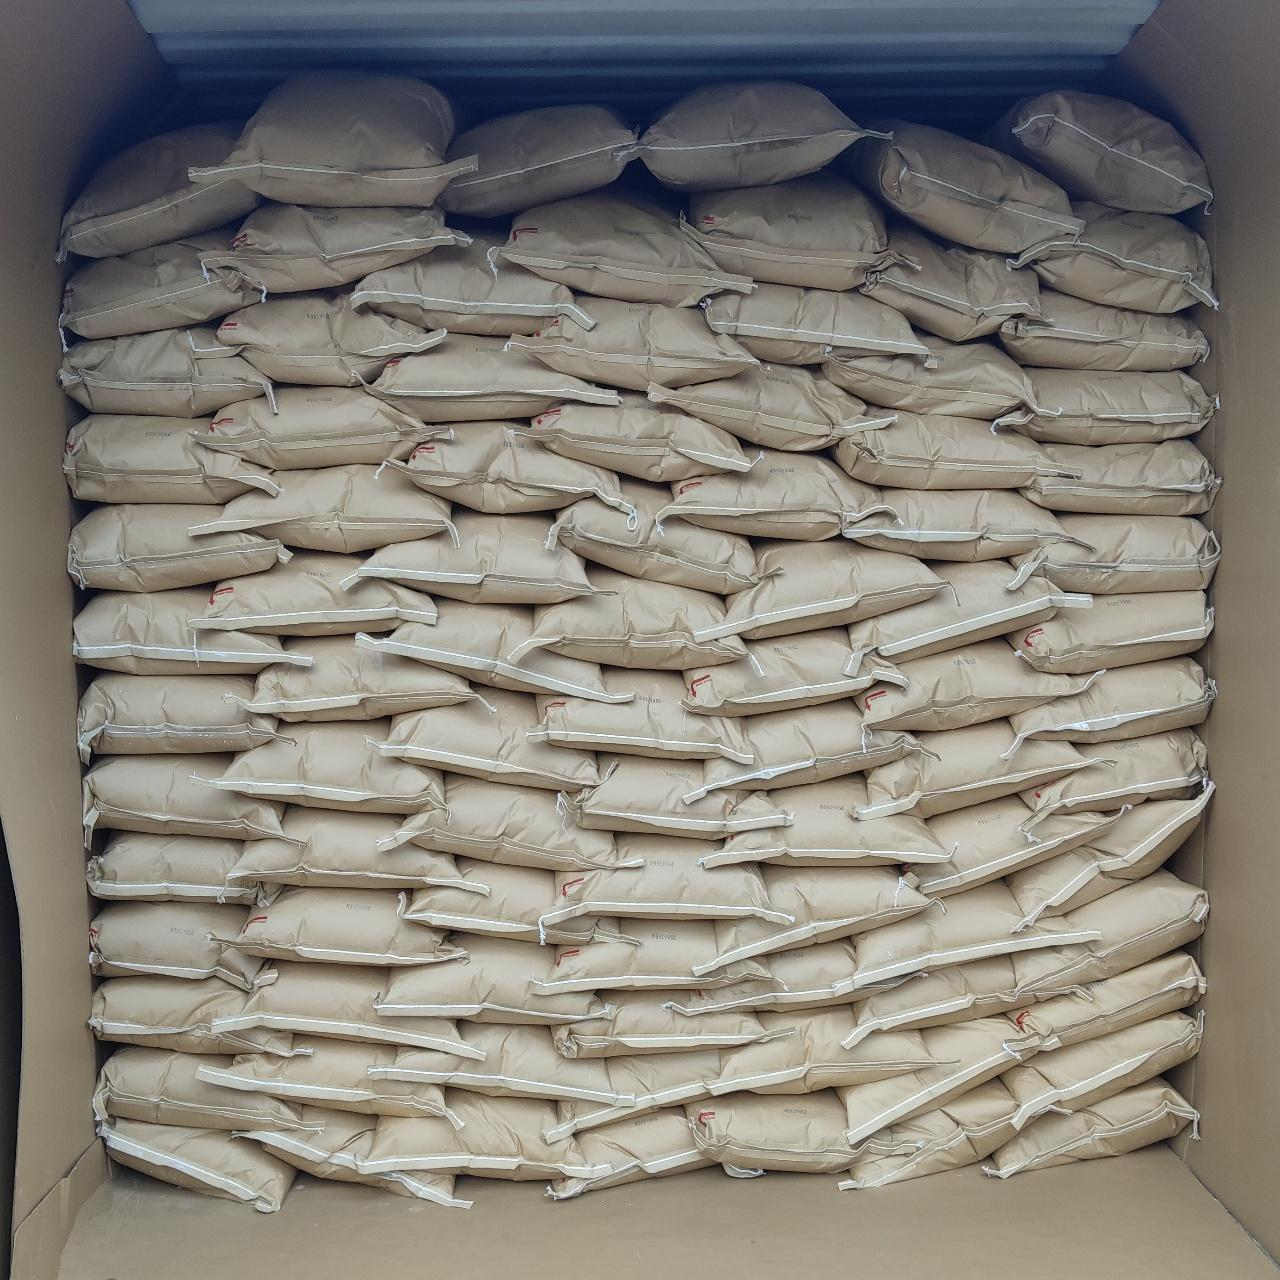sack: (198, 72, 467, 206), (836, 879, 1102, 1002), (836, 122, 1078, 254), (492, 188, 750, 302), (983, 91, 1212, 215), (840, 1014, 1056, 1142), (1008, 794, 1206, 932), (352, 600, 620, 700), (62, 122, 258, 254), (634, 82, 878, 188), (1014, 869, 1206, 1000), (697, 866, 932, 972), (224, 960, 478, 1056), (506, 294, 756, 390), (850, 561, 1088, 662), (686, 172, 894, 286), (392, 774, 638, 870), (210, 202, 470, 292), (855, 720, 1085, 821), (839, 1078, 1053, 1187), (685, 700, 926, 796), (236, 1107, 468, 1206), (549, 481, 760, 590), (200, 290, 445, 382), (380, 422, 629, 512), (348, 240, 588, 334), (188, 467, 452, 550), (1010, 202, 1214, 309), (377, 688, 598, 788), (532, 566, 742, 670), (360, 508, 590, 602), (438, 105, 638, 215), (714, 540, 937, 638), (704, 774, 944, 864), (215, 720, 445, 812), (862, 224, 1044, 340), (658, 448, 886, 540), (1002, 1012, 1200, 1118), (368, 334, 614, 420), (62, 230, 263, 334), (986, 1076, 1198, 1175), (648, 365, 892, 450), (532, 670, 754, 764), (198, 386, 450, 468), (200, 1036, 452, 1118), (906, 796, 1112, 896), (1005, 656, 1214, 754), (241, 636, 488, 719), (518, 392, 750, 478), (858, 640, 1085, 728), (74, 586, 308, 670), (377, 934, 602, 1022), (372, 1090, 590, 1180), (560, 836, 787, 922), (372, 1022, 617, 1102), (198, 552, 436, 634), (560, 754, 790, 838), (402, 858, 629, 942), (712, 1006, 930, 1094), (70, 504, 290, 590), (685, 628, 904, 714), (62, 326, 275, 414), (232, 806, 467, 886), (826, 336, 1050, 420), (84, 754, 298, 840), (100, 1118, 294, 1212), (704, 282, 924, 366), (226, 888, 462, 966), (66, 416, 278, 502), (1010, 952, 1204, 1046), (94, 1046, 309, 1128), (1024, 730, 1206, 828), (846, 954, 1039, 1046), (79, 672, 275, 760), (835, 411, 1064, 486), (90, 976, 306, 1054), (1000, 288, 1206, 368), (535, 920, 765, 990), (996, 368, 1216, 442), (1010, 592, 1214, 670), (672, 938, 886, 1012), (1010, 515, 1220, 590), (90, 904, 270, 990), (846, 490, 1074, 558), (550, 1051, 720, 1142), (1024, 440, 1220, 515), (549, 1108, 710, 1198), (686, 1090, 858, 1172), (88, 832, 278, 904), (554, 992, 772, 1054)
